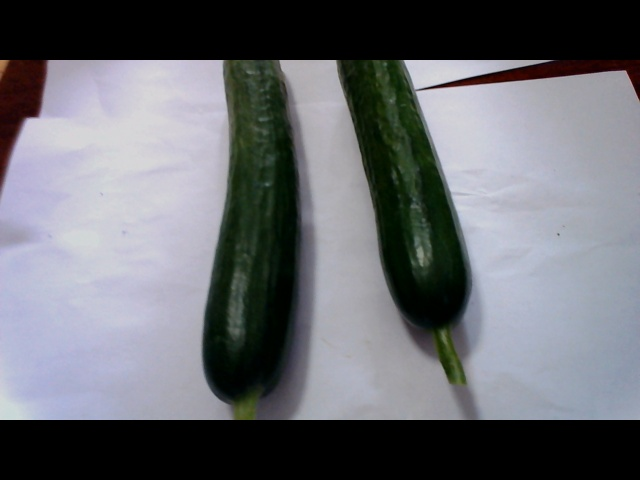cucumber: (337, 64, 478, 386), (189, 58, 313, 410)
